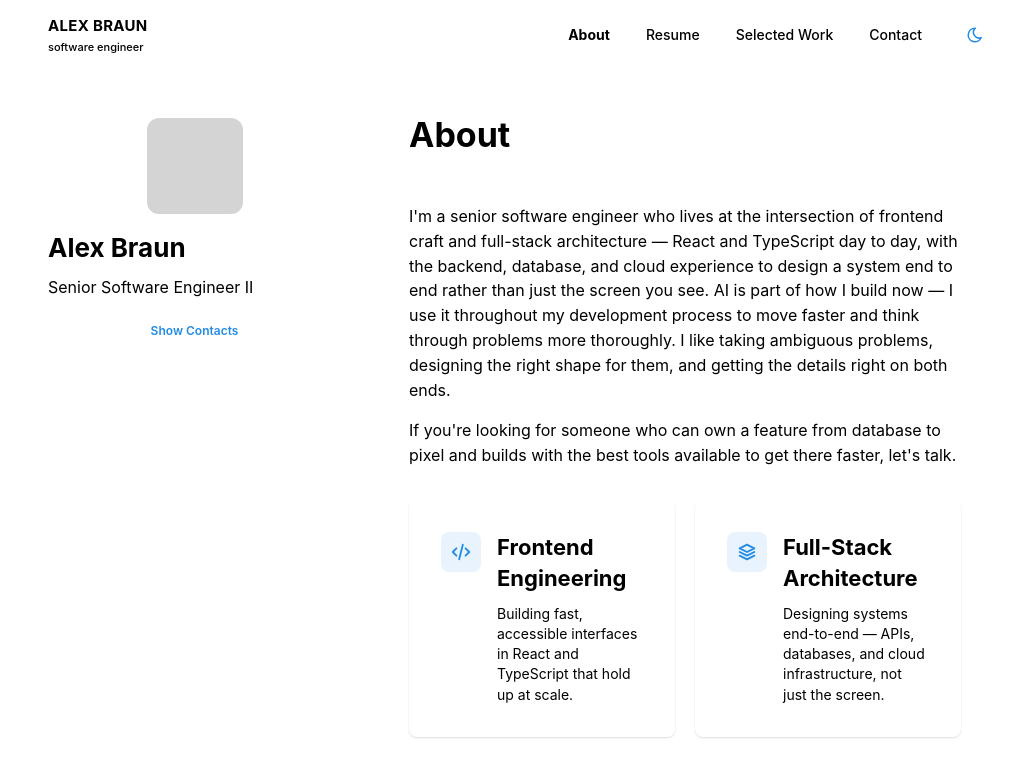
Test: Page Aside content by route › hides contact links behind Show Contacts on About at narrow width, revealing them on click
expect the text "braunacb@gmail.com" is not shown: met
Click the button "Show Contacts".
click(194, 331)  # box [48, 316, 341, 346]
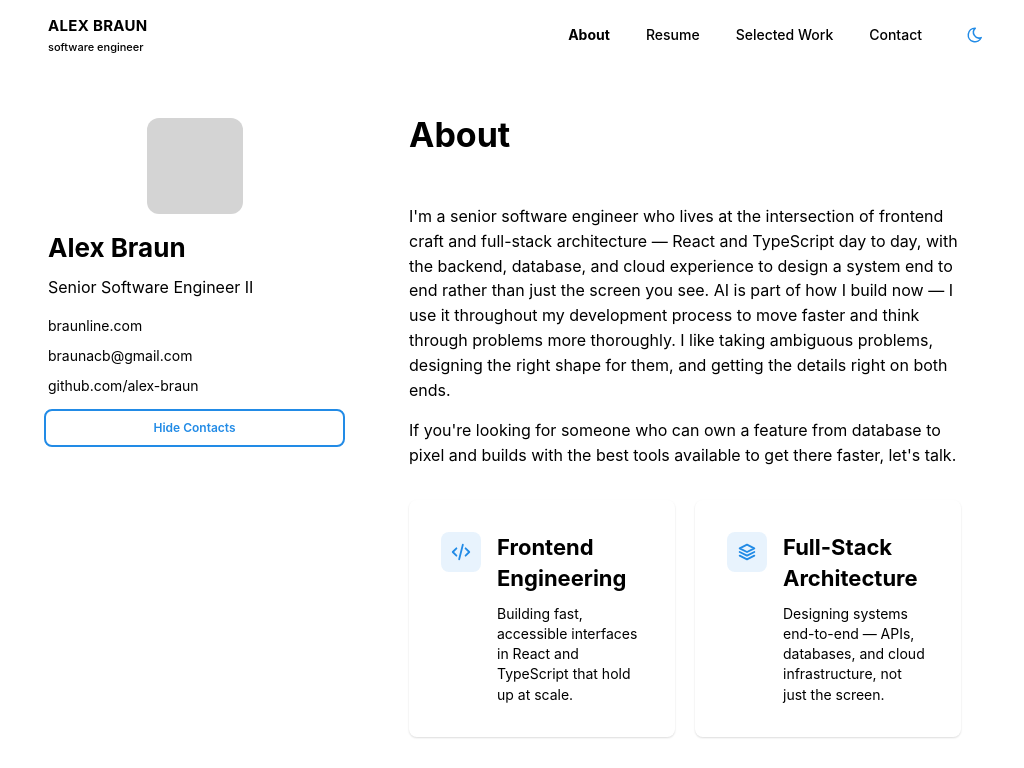
expect the link "braunacb@gmail.com" is shown: met, box [48, 347, 192, 364]
